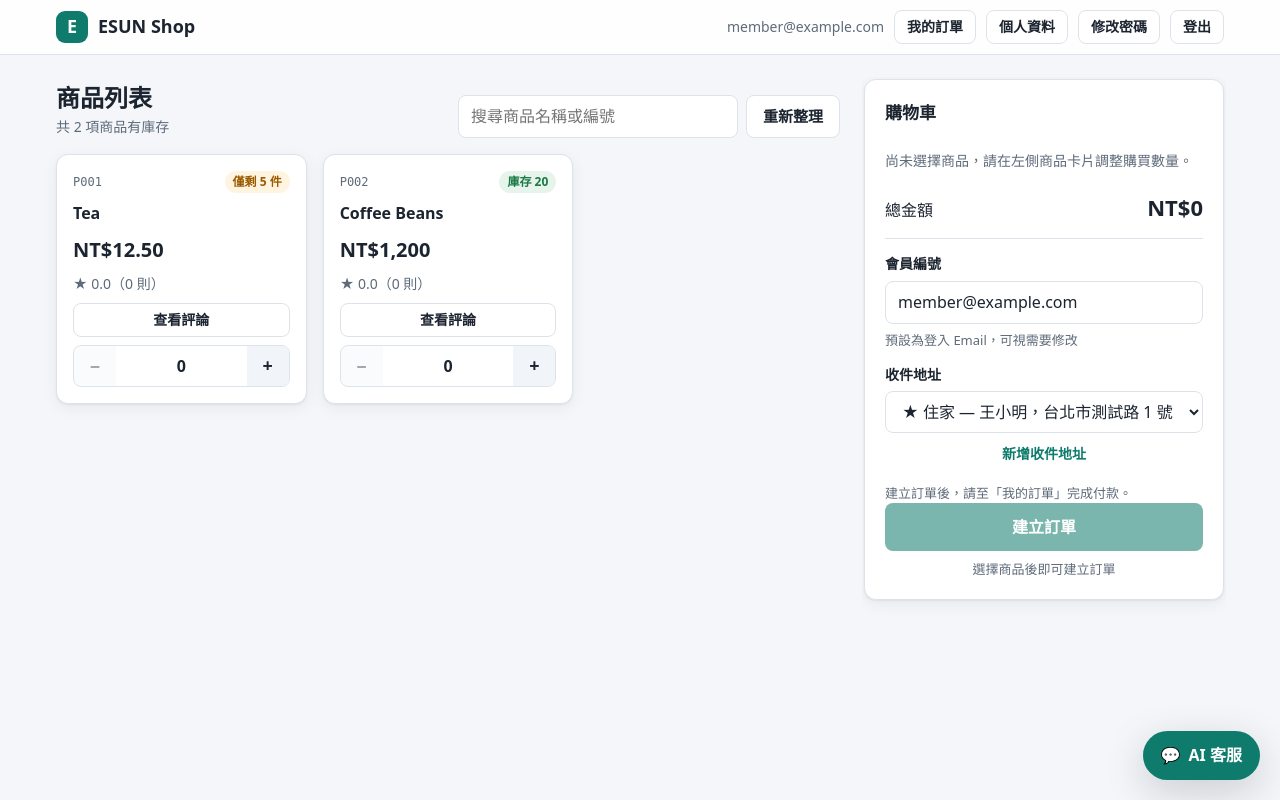
Scenario: catalog and cart › formats prices and filters by keyword with an empty state
Type "coffee" into the search field with id "catalog-search" at (598, 116), box [458,95,738,138]
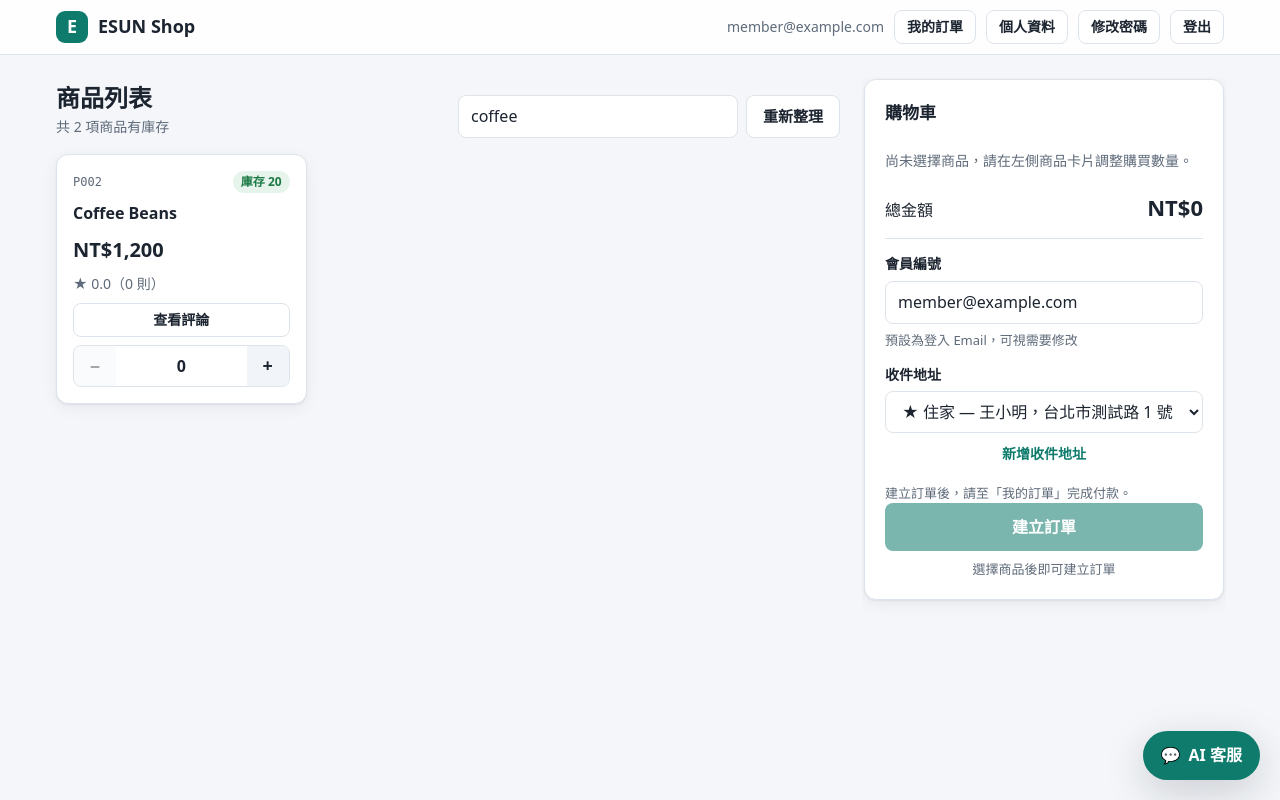
Expected: the text "Tea" is gone
Replace the text in the search field with id "catalog-search" with "nothing" at (598, 116), box [458,95,738,138]
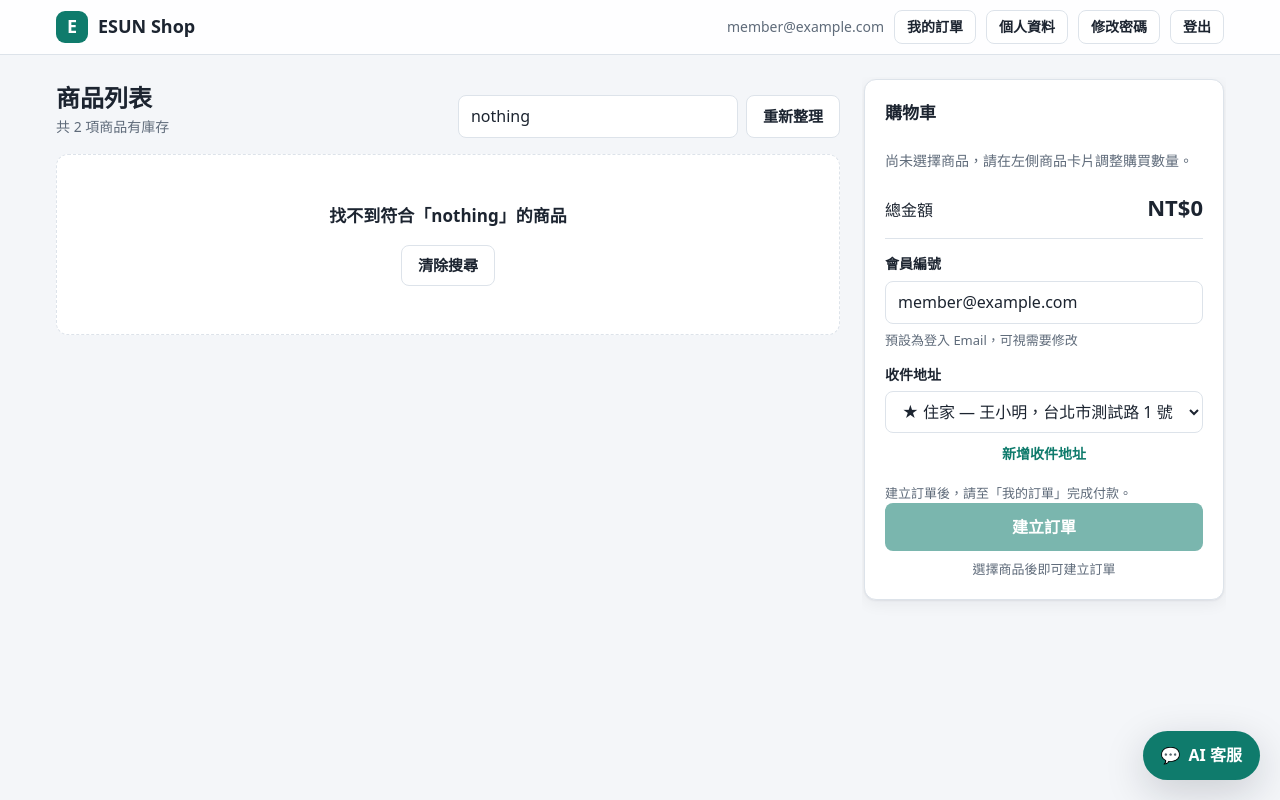
Expected: the text "找不到符合「nothing」的商品" is shown, [329,203,567,229]
